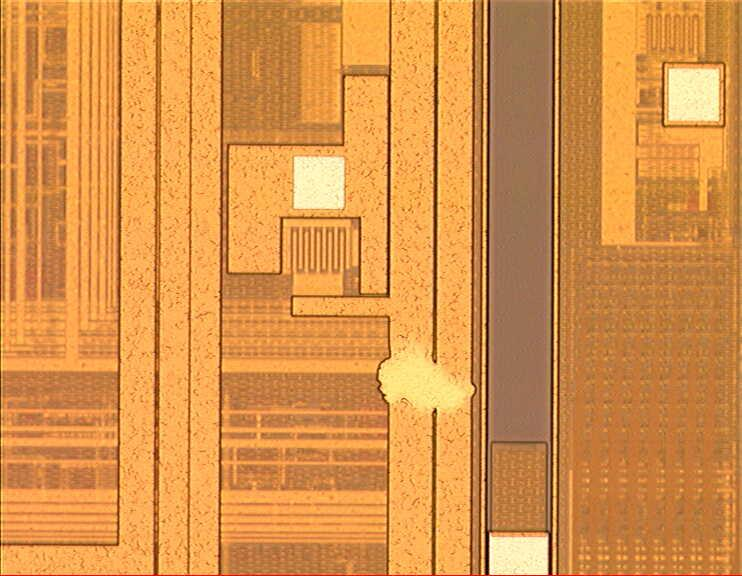BLOCK ETCH: (372, 342, 479, 419)
